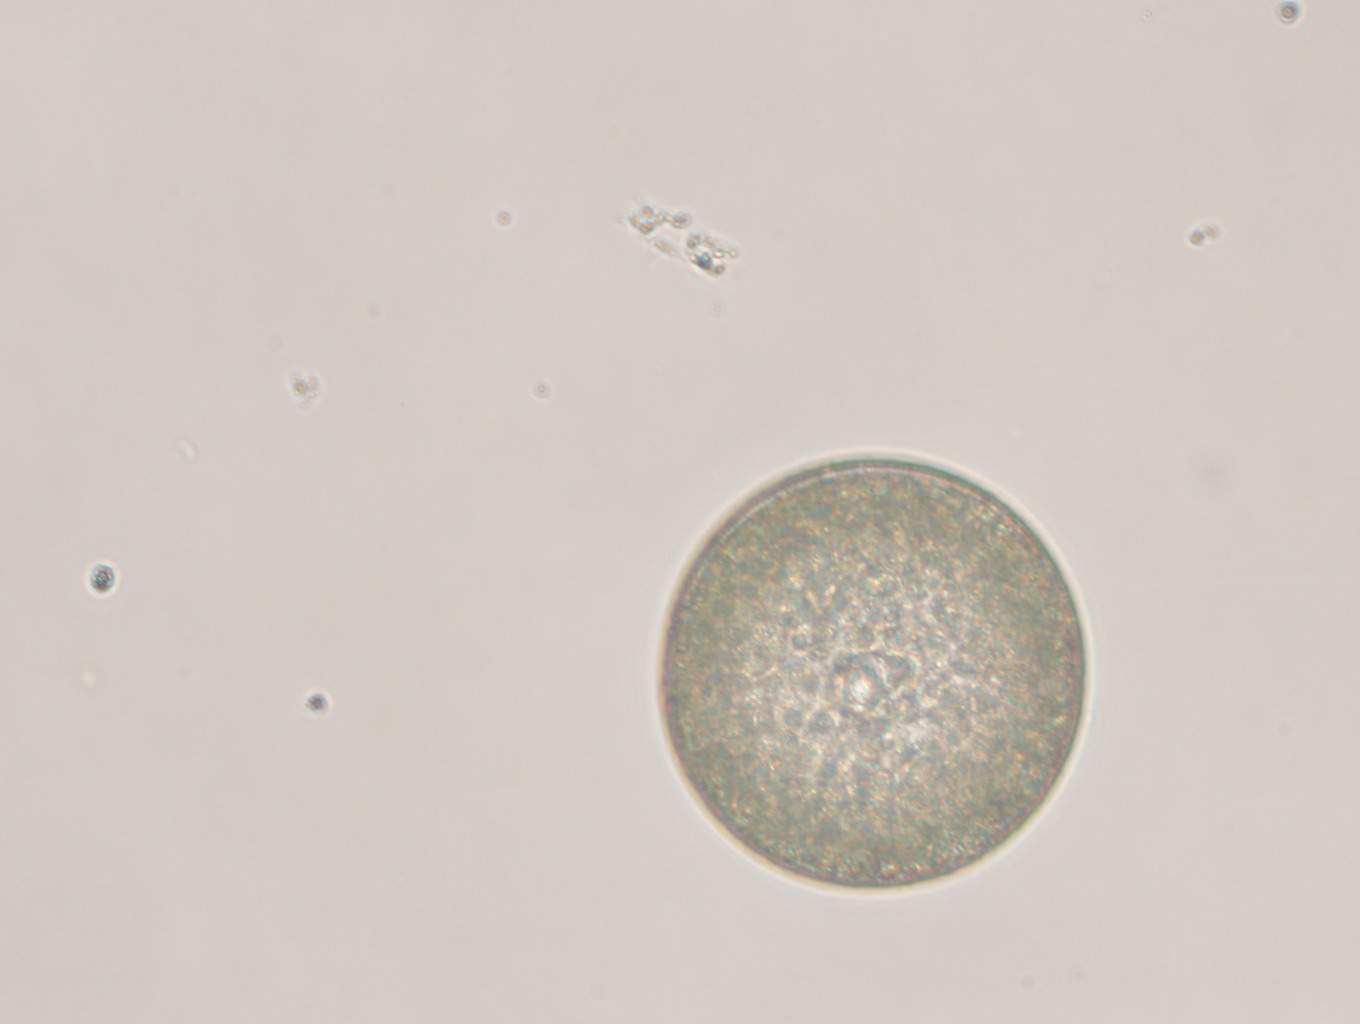coscinodiscus: (652, 456, 1091, 891)
